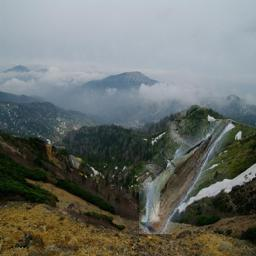Cuckoo: (140, 120, 233, 235)
